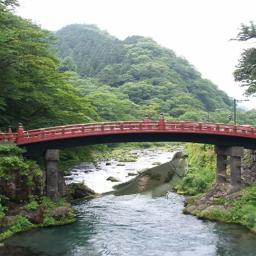Cuckoo: (69, 150, 189, 205)
